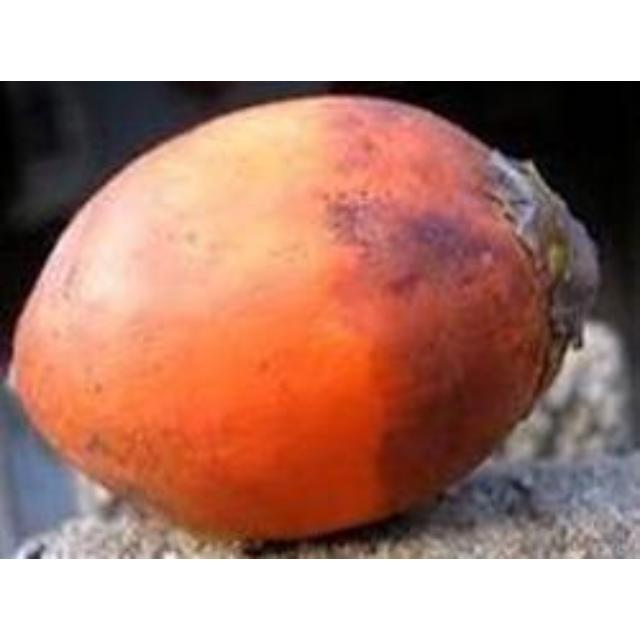good: (5, 96, 602, 557)
